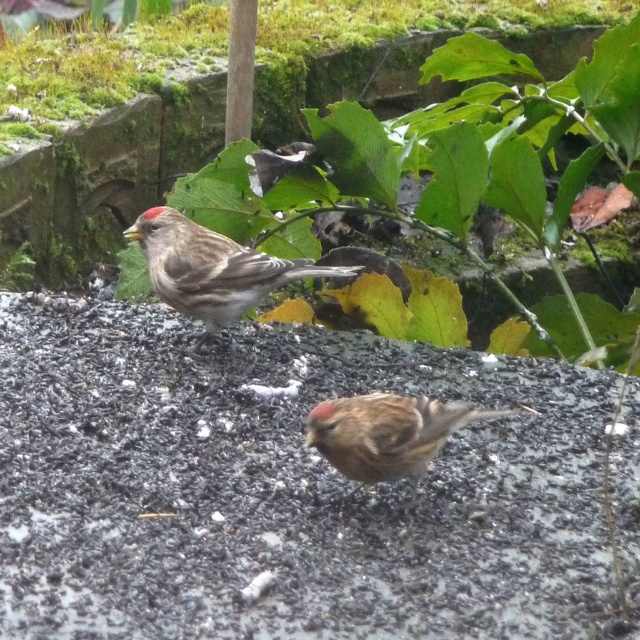Sparrow: (120, 204, 368, 350), (298, 389, 516, 501)
